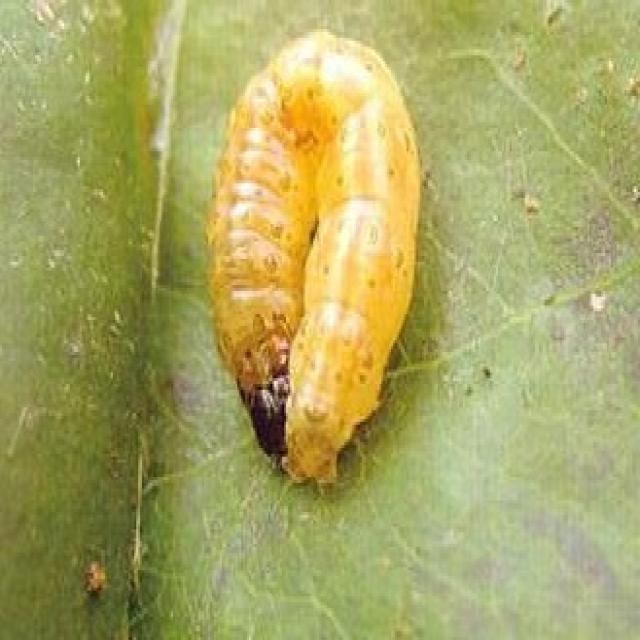peach borer: (196, 29, 428, 491)
